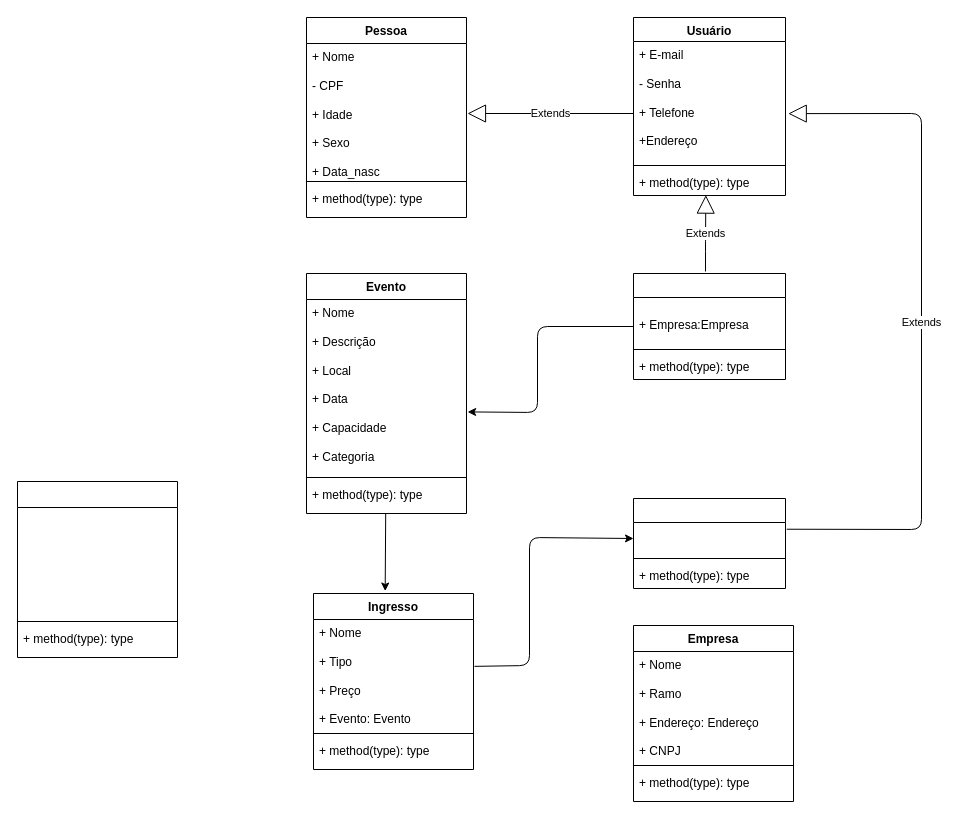
This 959x822 diagram has some shape labels left out. Each missing label, with the box of its shape:
Produtor: (632, 272, 786, 380)
TipoEvento: (16, 480, 178, 658)
Vendedor: (632, 498, 786, 588)
